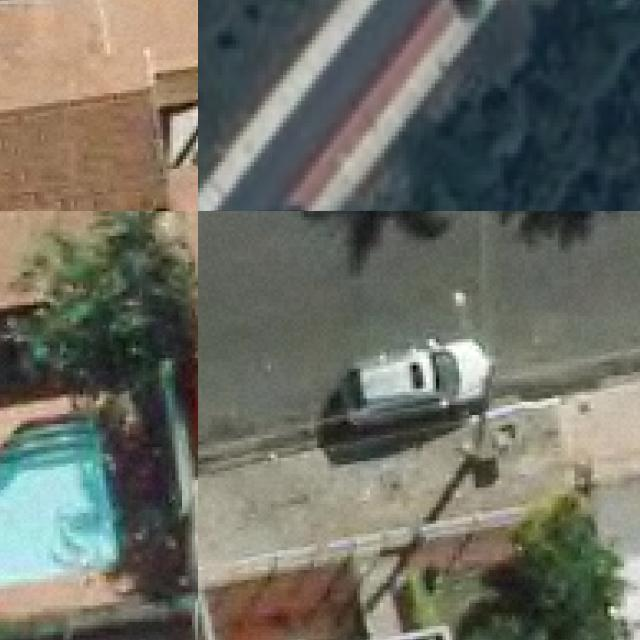trees: (357, 1, 640, 212), (15, 212, 199, 400), (460, 512, 630, 640)
